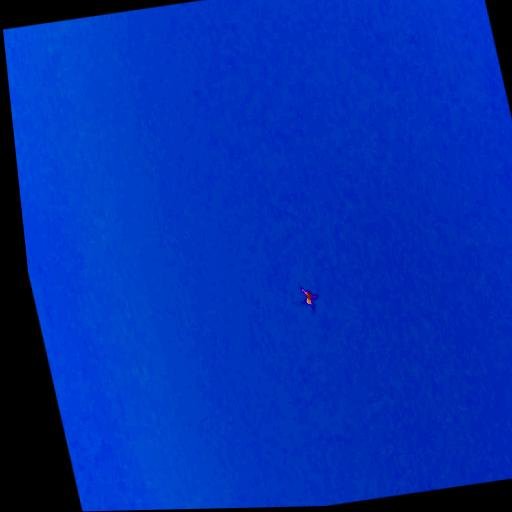drones: (295, 278, 326, 319)
